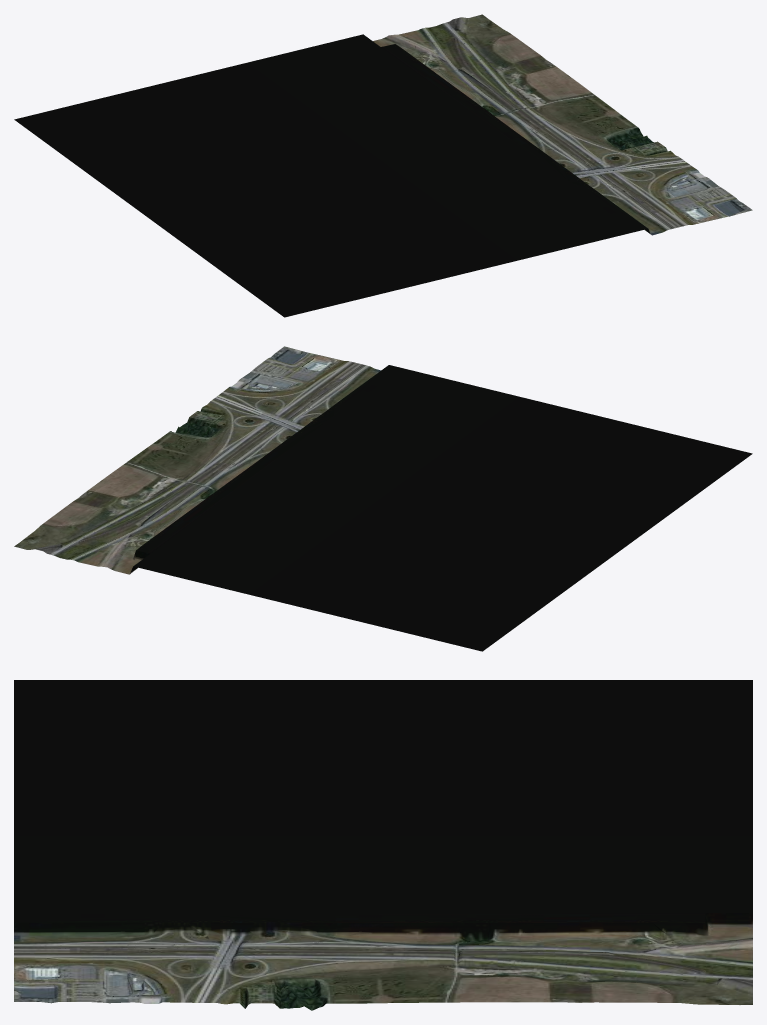
File: map_10_247_425.dae
3 views of the same model, one above another, from view 1: azimuth 30°, elevation 25°; view 2: azimuth 150°, elevation 25°; view 3: azimuth 270°, elevation 25° (orthographic). The views are drawn at different scales.
Parts seen in each view (by area): view 1: Ter0; view 2: Ter0; view 3: Ter0.
Boxes of the visible parts, left/top/right/bottom form: Ter0: left=14, top=14, right=752, bottom=317; Ter0: left=14, top=346, right=752, bottom=651; Ter0: left=14, top=680, right=752, bottom=1010.
Bounding box in the file's own units: 2044 × 2044 × 56.35.
3 materials, 3 textured.
